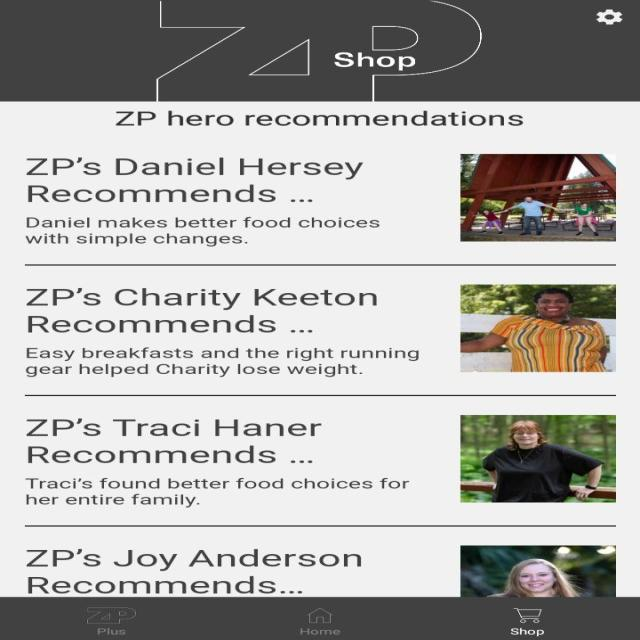Icon: (594, 9, 622, 25), (512, 607, 540, 622), (306, 608, 332, 622)
Image: (156, 0, 480, 101), (460, 284, 616, 372), (460, 415, 616, 502), (460, 154, 616, 241), (460, 545, 616, 597), (87, 607, 136, 623)
Text: (26, 288, 377, 333), (26, 548, 361, 594), (25, 157, 362, 202), (26, 418, 321, 463), (25, 346, 419, 377), (24, 477, 409, 508), (24, 216, 380, 246), (115, 111, 522, 126), (333, 52, 415, 71), (509, 628, 543, 636), (300, 628, 340, 634), (98, 627, 126, 634)
